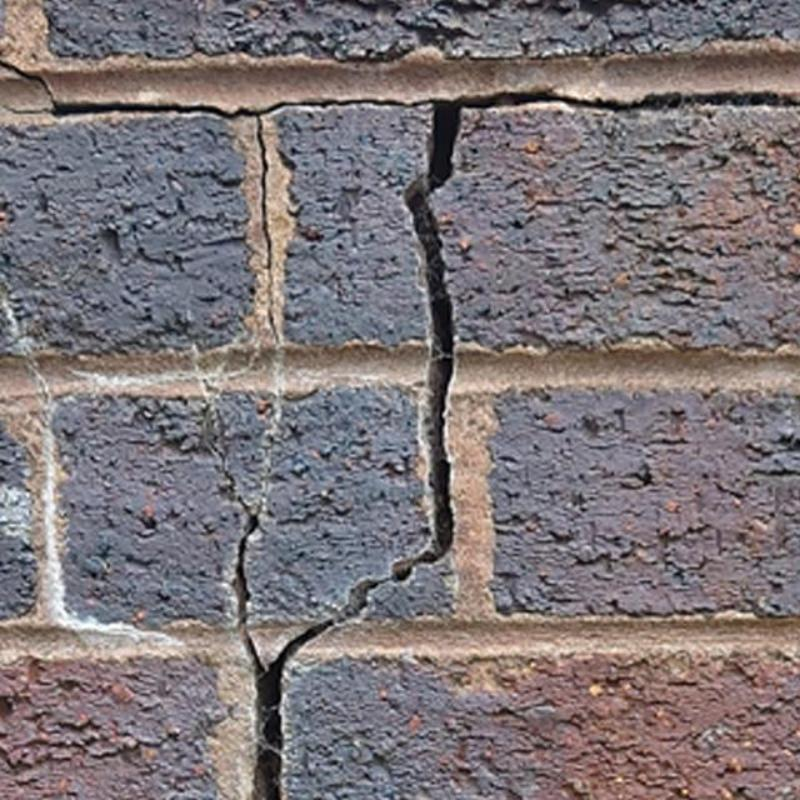crack: (211, 90, 799, 799), (0, 59, 406, 346)
